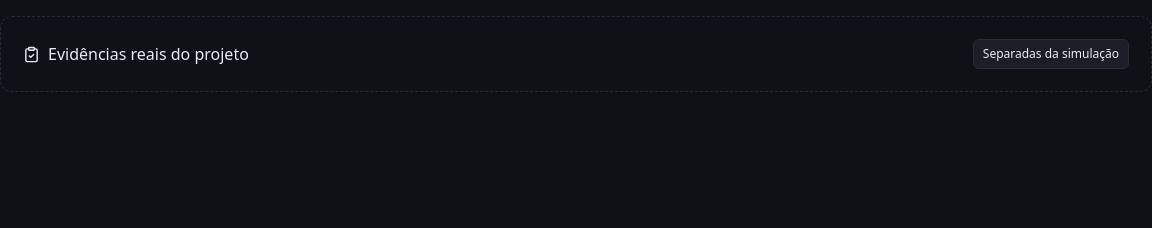
Test: RF-WF-007 shows the actual API health independently from simulated gates and unavailable CI
Click the heading "Evidências reais do projeto": {"x": 148, "y": 54} [23,39,1129,69]
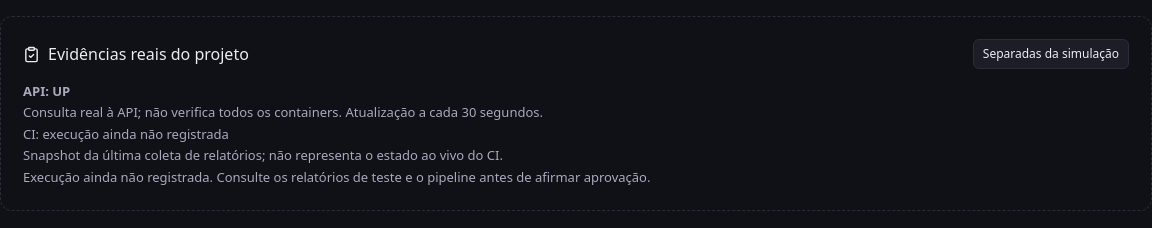
expect the text "API: UP" is shown: met, box [23,82,70,100]
expect the text "CI: execução ainda não registrada" is shown: met, box [23,125,229,143]
expect the text "Consulta real à API; não verifica todos os containers" is shown: met, box [23,103,543,121]
